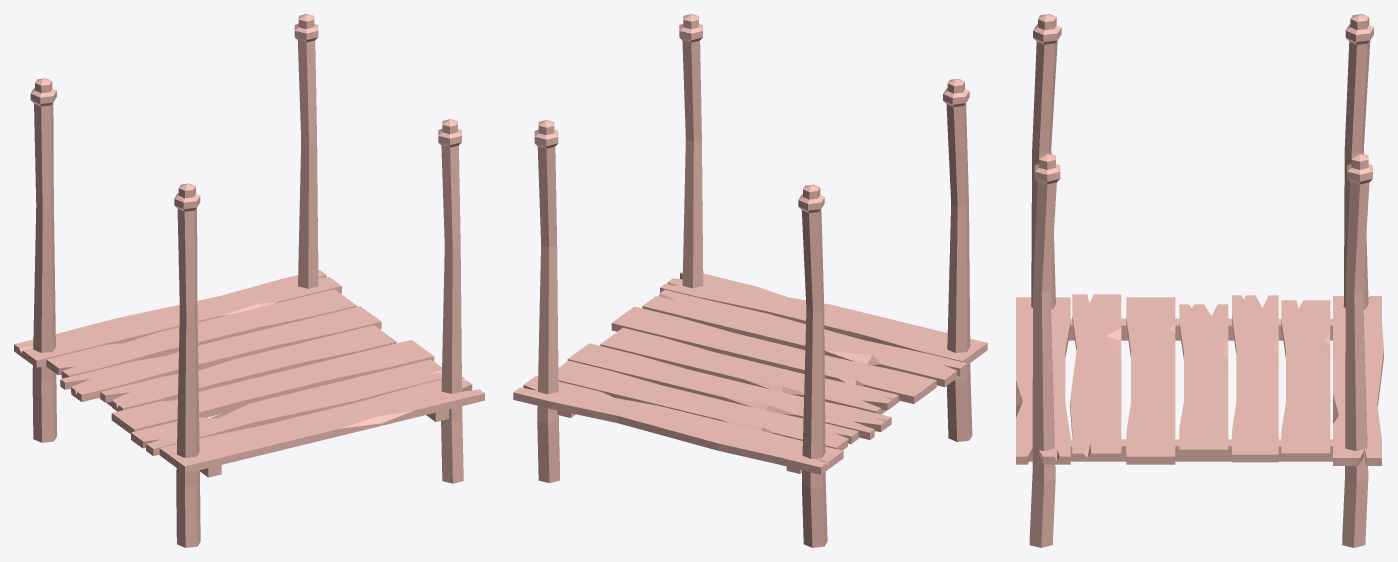
The model's file is Mega_Asset_s_Pack_Cube_013.FBX.
3 views of the same model, side by side, from view 1: azimuth 30°, elevation 25°; view 2: azimuth 150°, elevation 25°; view 3: azimuth 270°, elevation 25° (orthographic). The views are drawn at different scales.
Parts seen in each view (by area): view 1: Mega_Asset_s_Pack_Cube_013; view 2: Mega_Asset_s_Pack_Cube_013; view 3: Mega_Asset_s_Pack_Cube_013.
Part boxes in pixels (x1,y1,x2,y2): Mega_Asset_s_Pack_Cube_013: (14,14,484,547); Mega_Asset_s_Pack_Cube_013: (513,14,987,547); Mega_Asset_s_Pack_Cube_013: (1016,14,1383,547).
Size of what is drawn, in the model's own units: 300 by 285 by 331.
